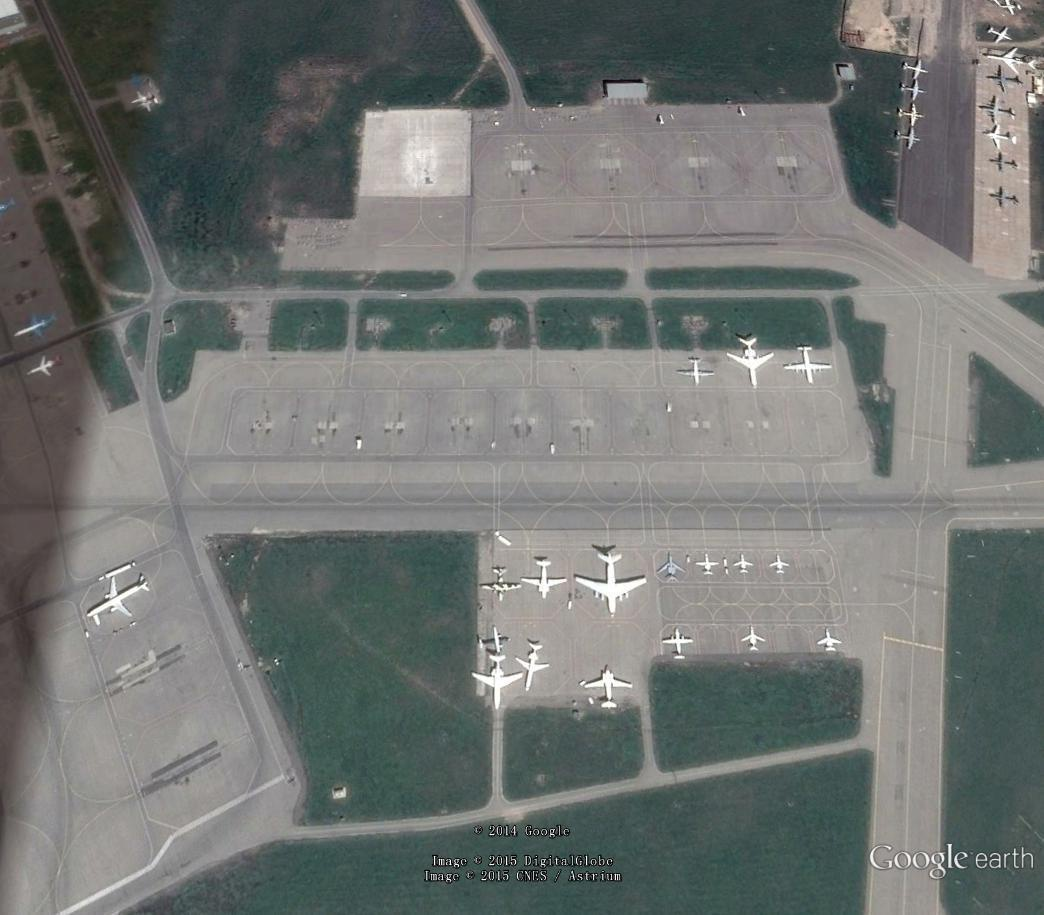aircraft: (574, 549, 649, 624), (82, 571, 154, 628), (468, 652, 526, 717), (721, 334, 777, 391), (577, 664, 639, 715), (784, 337, 835, 390), (520, 552, 571, 603), (516, 639, 555, 696), (985, 42, 1039, 82), (12, 309, 60, 343), (481, 564, 522, 603), (661, 624, 697, 666), (676, 355, 720, 388), (21, 349, 61, 385), (978, 93, 1020, 125), (986, 63, 1025, 94), (655, 550, 688, 585), (983, 122, 1020, 152), (985, 184, 1024, 212), (986, 149, 1023, 175), (739, 624, 769, 654), (893, 125, 923, 154), (693, 550, 721, 580), (900, 56, 934, 80), (816, 625, 843, 655), (897, 103, 926, 128), (986, 23, 1014, 47), (730, 552, 756, 577), (900, 80, 928, 103), (766, 555, 792, 577), (996, 1, 1026, 17)
